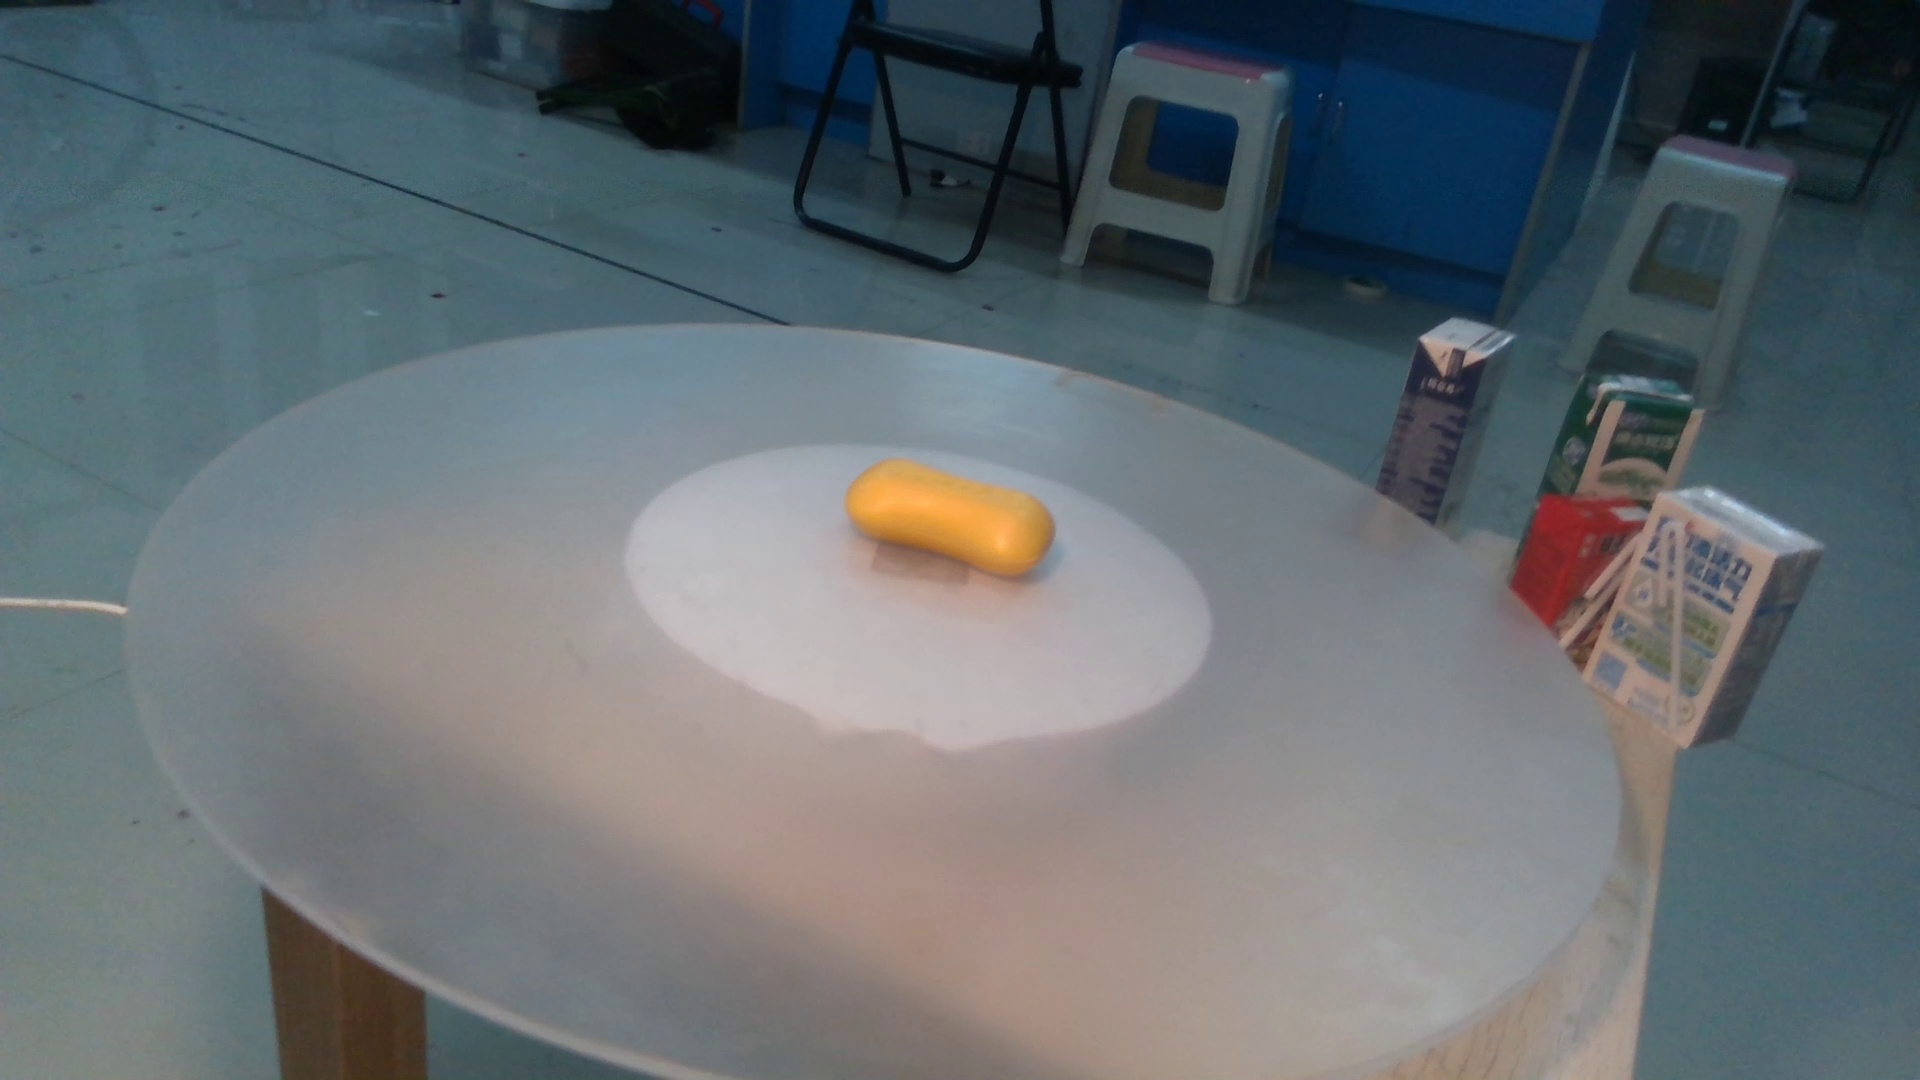CA003_1: (833, 436, 1109, 611)
